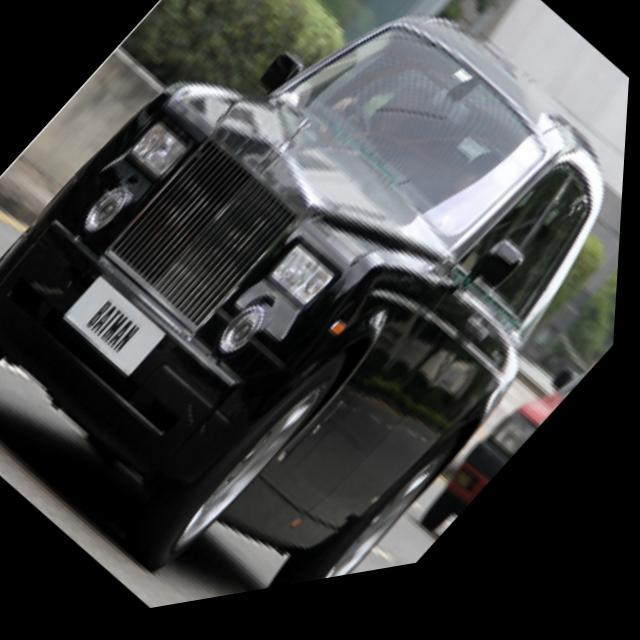license_plate: (62, 267, 174, 388)
